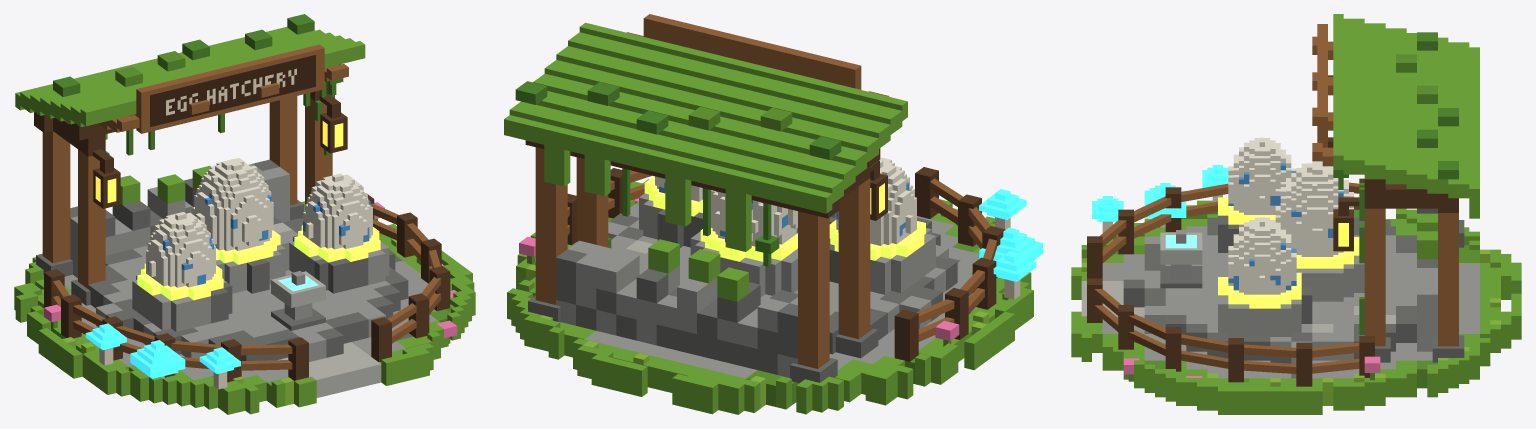
The model's file is Lobby_EggHatchery.glb.
3 renders of one model, left to right at view 1: azimuth 30°, elevation 25°; view 2: azimuth 150°, elevation 25°; view 3: azimuth 270°, elevation 25°, orthographic. The views are drawn at different scales.
Visible parts, largest first — view 1: Platform_Moss, Frame_Wood, Platform_Stone, Roof_Moss, Fence_WoodDark, Platform_StoneDark, Egg_Middle_EggCream, Fence_Wood, SignPanel_SignBoard, Egg_Left_EggCream, Egg_Right_EggCream, Sign_Wood (+28 smaller); view 2: Roof_Moss, Platform_Moss, Frame_Wood, BackWall_Stone, BackWall_StoneDark, Platform_Stone, Fence_WoodDark, Sign_Wood, Fence_Wood, Mushrooms_Mushroom_Emissive, Platform_StoneDark, BackWall_Moss (+18 smaller); view 3: Roof_Moss, Platform_Moss, Platform_Stone, Fence_Wood, Frame_Wood, Fence_WoodDark, Platform_StoneDark, Egg_Middle_EggCream, Egg_Right_EggCream, Egg_Left_EggCream, Pedestal_Right_Stone, Frame_WoodDark (+22 smaller).
Boxes of the visible parts, x1,y1,x2,y2 form: Platform_Moss: (14, 201, 475, 414); Frame_Wood: (42, 64, 348, 288); Platform_Stone: (64, 230, 437, 382); Roof_Moss: (15, 27, 365, 139); Fence_WoodDark: (44, 193, 450, 382); Platform_StoneDark: (88, 216, 412, 368); Egg_Middle_EggCream: (192, 158, 273, 251); Fence_Wood: (53, 203, 440, 370); SignPanel_SignBoard: (150, 55, 315, 126); Egg_Left_EggCream: (146, 212, 215, 287); Egg_Right_EggCream: (303, 173, 372, 249); Sign_Wood: (136, 44, 324, 133); Roof_Moss: (504, 22, 907, 251); Platform_Moss: (507, 179, 1033, 414); Frame_Wood: (535, 32, 889, 368); BackWall_Stone: (556, 240, 797, 377); BackWall_StoneDark: (556, 249, 797, 374); Platform_Stone: (585, 204, 997, 378); Fence_WoodDark: (567, 167, 1005, 361); Sign_Wood: (643, 14, 861, 89); Fence_Wood: (567, 170, 996, 341); Mushrooms_Mushroom_Emissive: (979, 189, 1042, 281); Platform_StoneDark: (609, 213, 960, 354); BackWall_Moss: (648, 239, 748, 301); Roof_Moss: (1333, 14, 1479, 218); Platform_Moss: (1071, 200, 1521, 414); Platform_Stone: (1102, 226, 1479, 378); Fence_Wood: (1094, 182, 1359, 373); Frame_Wood: (1312, 36, 1458, 346); Fence_WoodDark: (1087, 178, 1374, 386); Platform_StoneDark: (1123, 217, 1416, 378); Egg_Middle_EggCream: (1275, 161, 1353, 256); Egg_Right_EggCream: (1228, 217, 1296, 294); Egg_Left_EggCream: (1228, 137, 1296, 214); Pedestal_Right_Stone: (1218, 295, 1301, 336); Frame_WoodDark: (1364, 179, 1458, 212).
Bounding box in the file's own units: 5.5 × 3.25 × 5.38.
